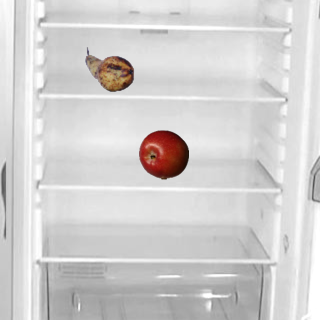Apple Braeburn: (138, 129, 188, 179)
Pear Abate: (84, 44, 134, 94)
